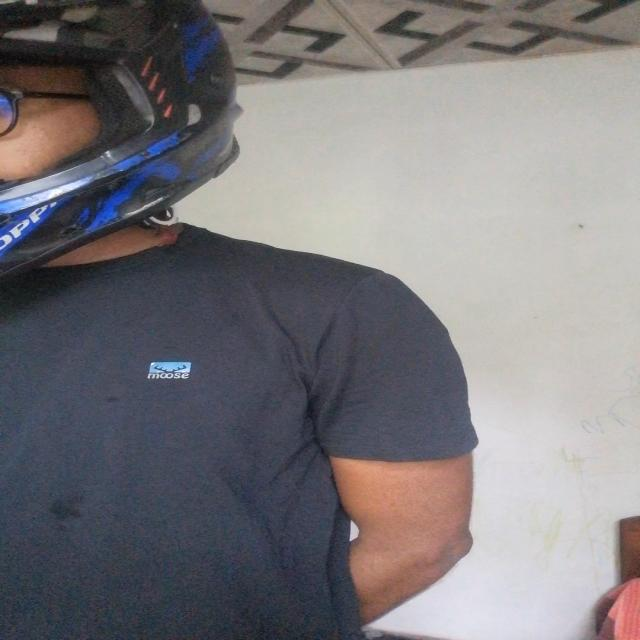Helmet_Wearer: (4, 0, 308, 292)
